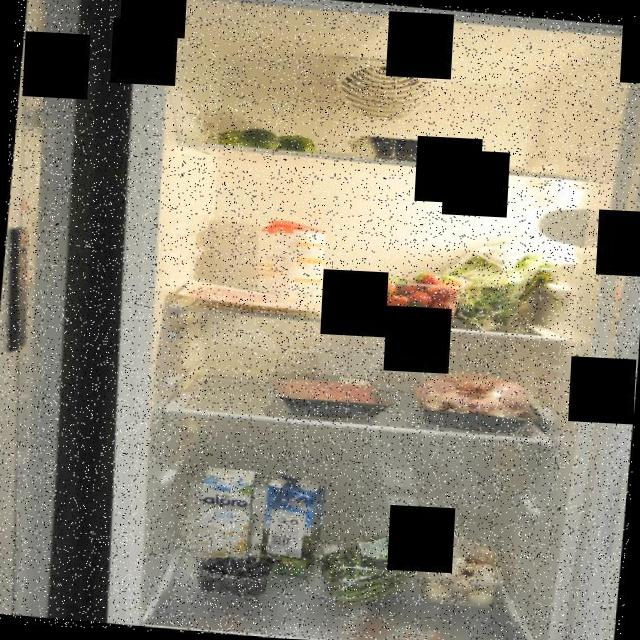Carne cerdo: (187, 281, 316, 316)
Carne pollo: (408, 362, 543, 436)
Champiñones: (409, 524, 505, 608)
Leche: (257, 470, 328, 584), (192, 462, 262, 566)
